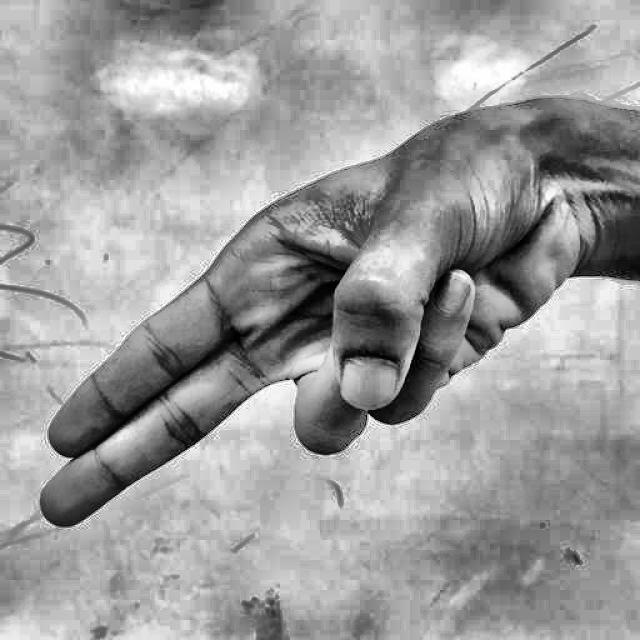Ha: (28, 45, 608, 608)
